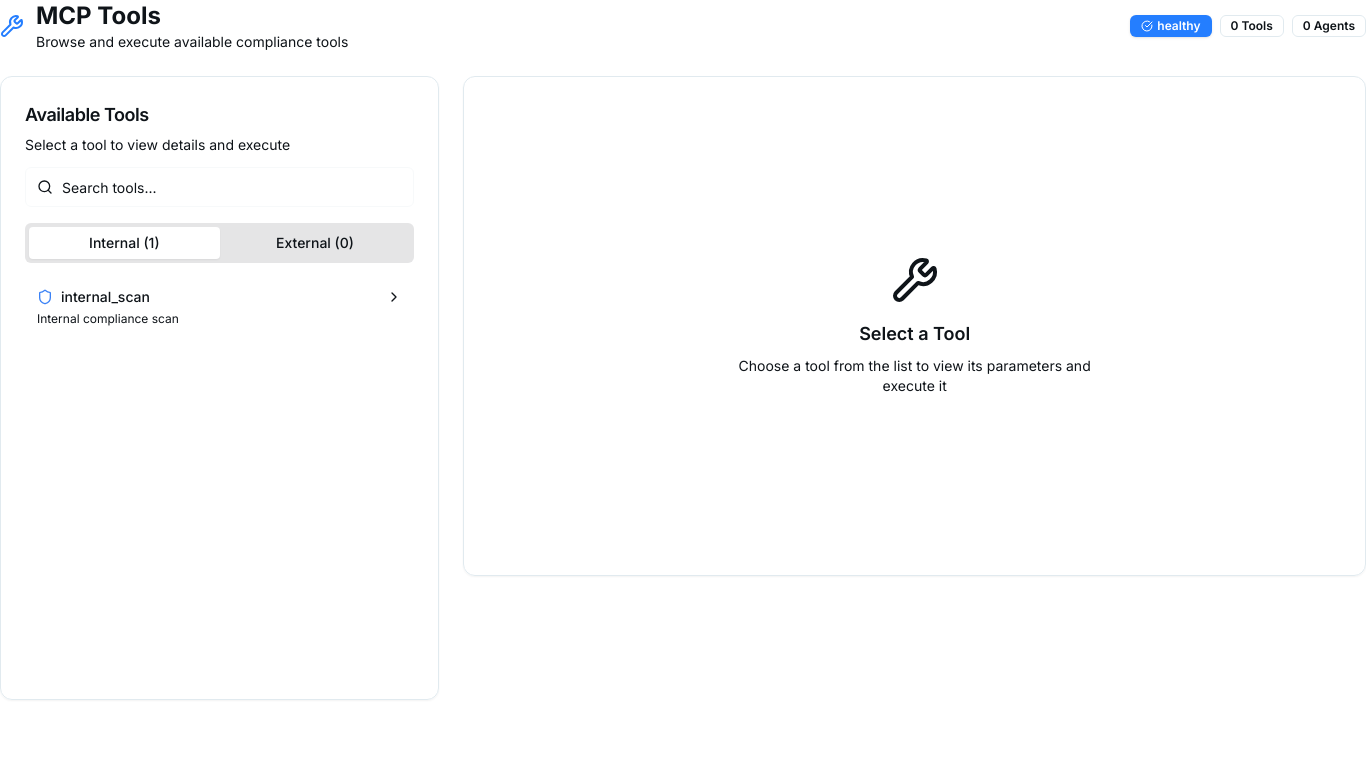
Scenario: MCPTools interactions › parses parameters and executes selected tool successfully
This screenshot has width=1366, height=760.
Click the element with test id "tool-item-internal_scan" at [106, 296], box [37,288,402,326]
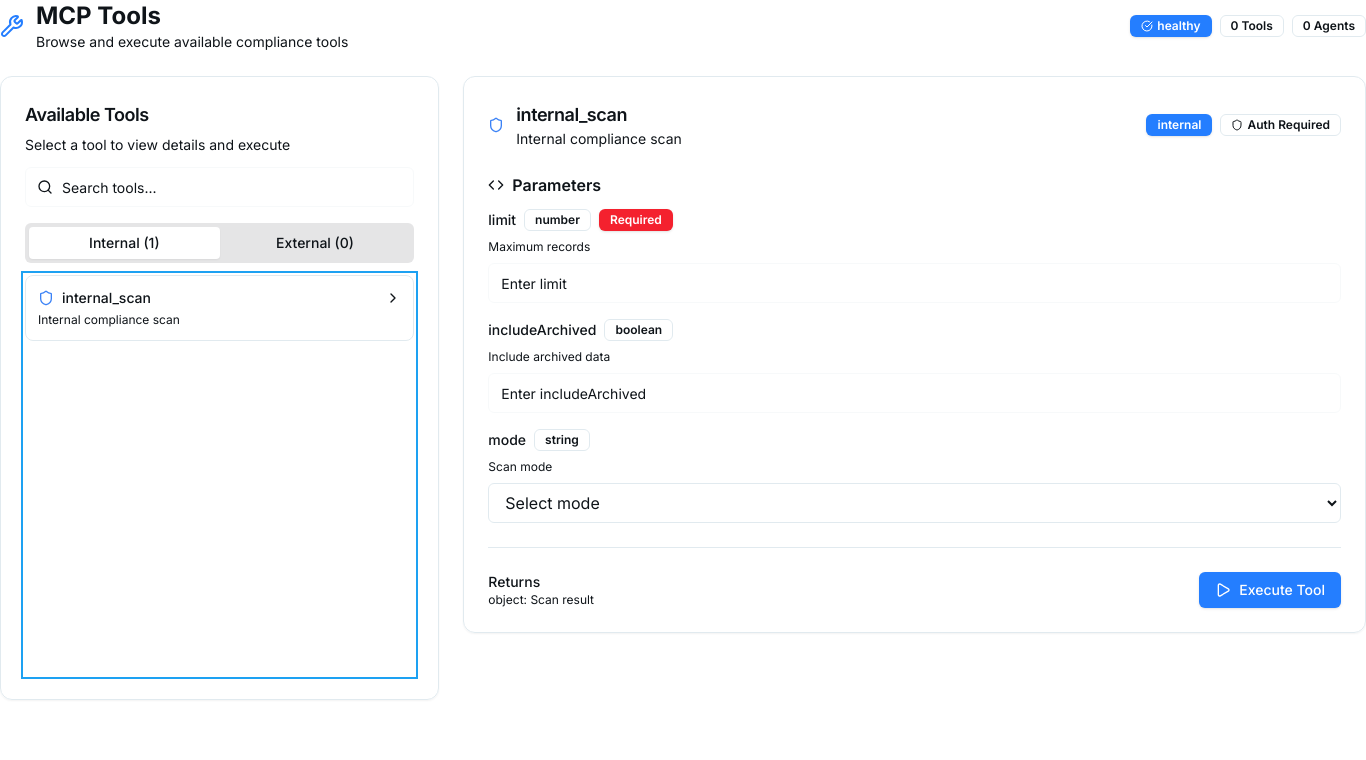
Type "5" into the number field with test id "input-param-limit" at [915, 283], box [488,263,1341,303]
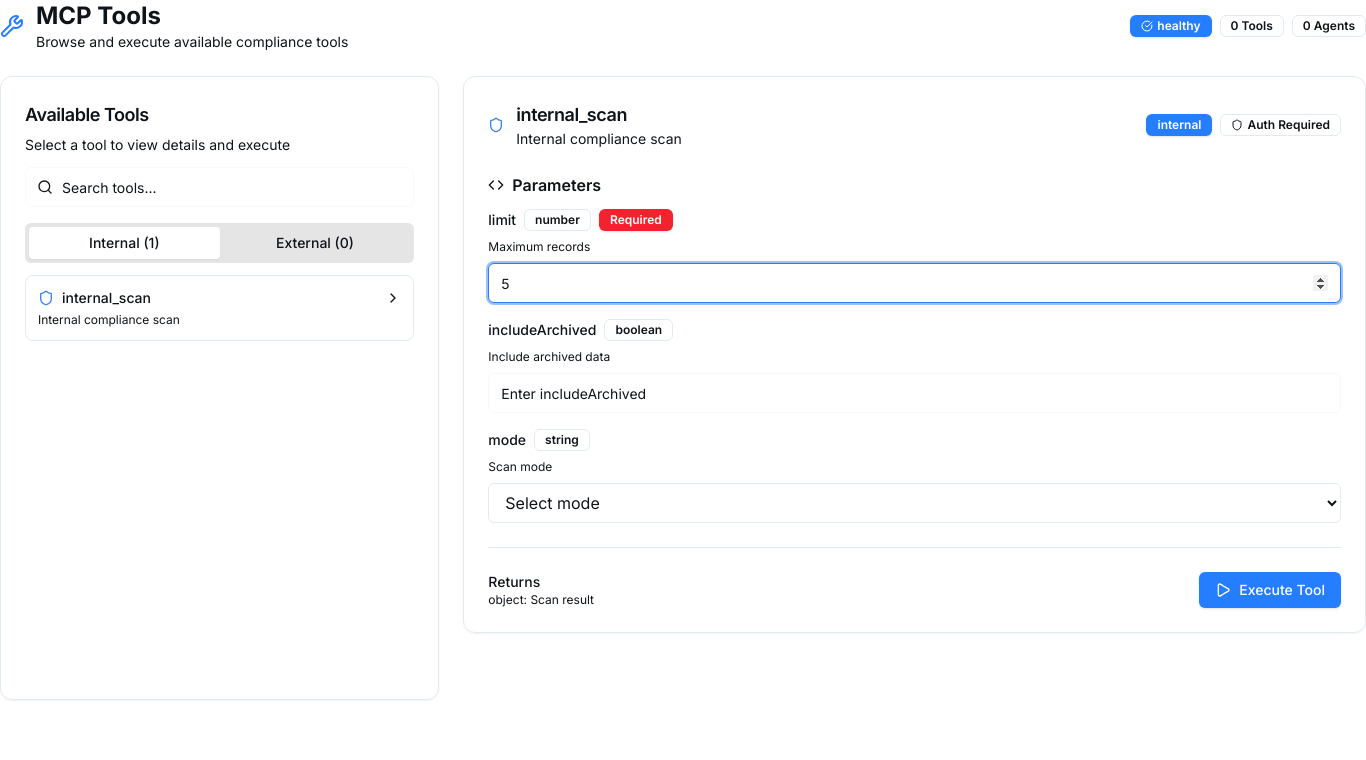
Type "true" into the field with test id "input-param-includeArchived" at [915, 393], box [488,373,1341,413]
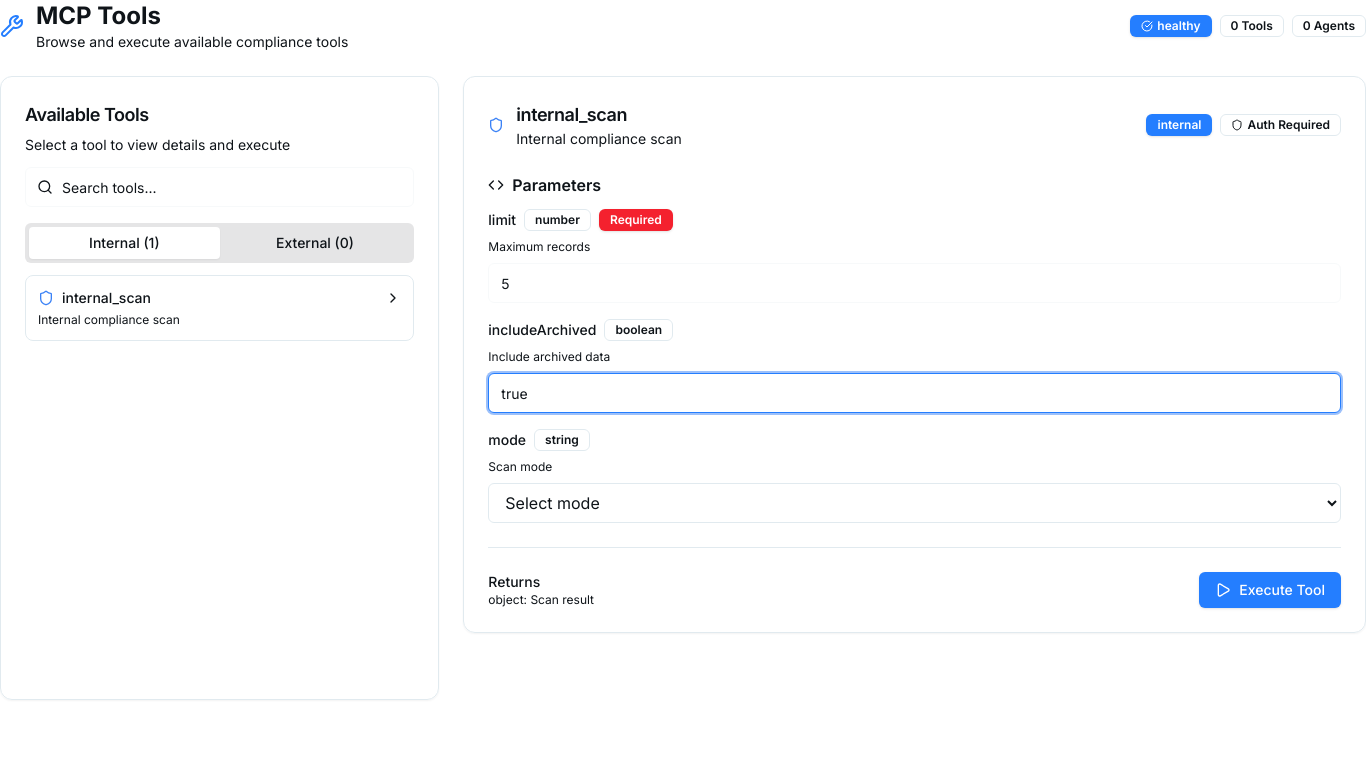
Select "deep" in the dropdown with test id "input-param-mode" at [915, 503], box [488,483,1341,523]
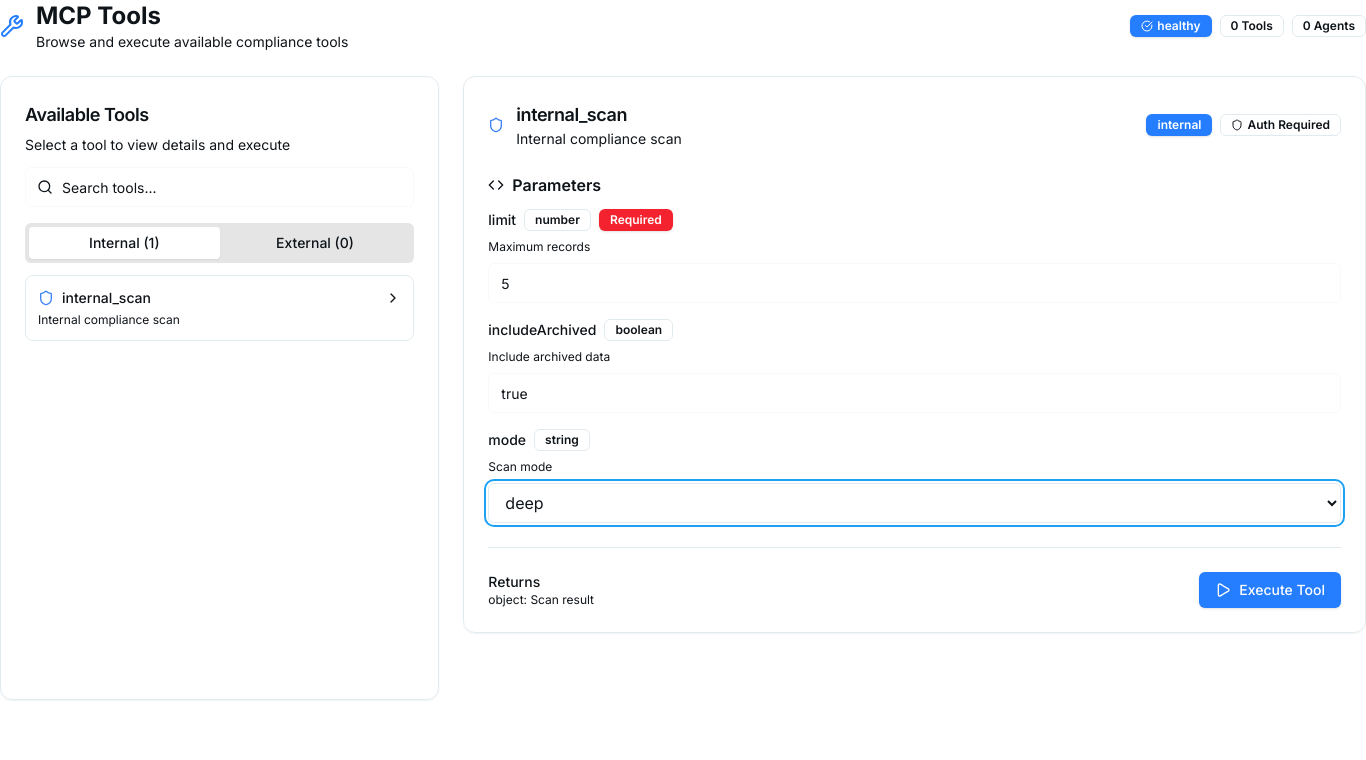
Click the button with test id "button-execute-tool" at [1270, 590], box [1199,572,1341,608]
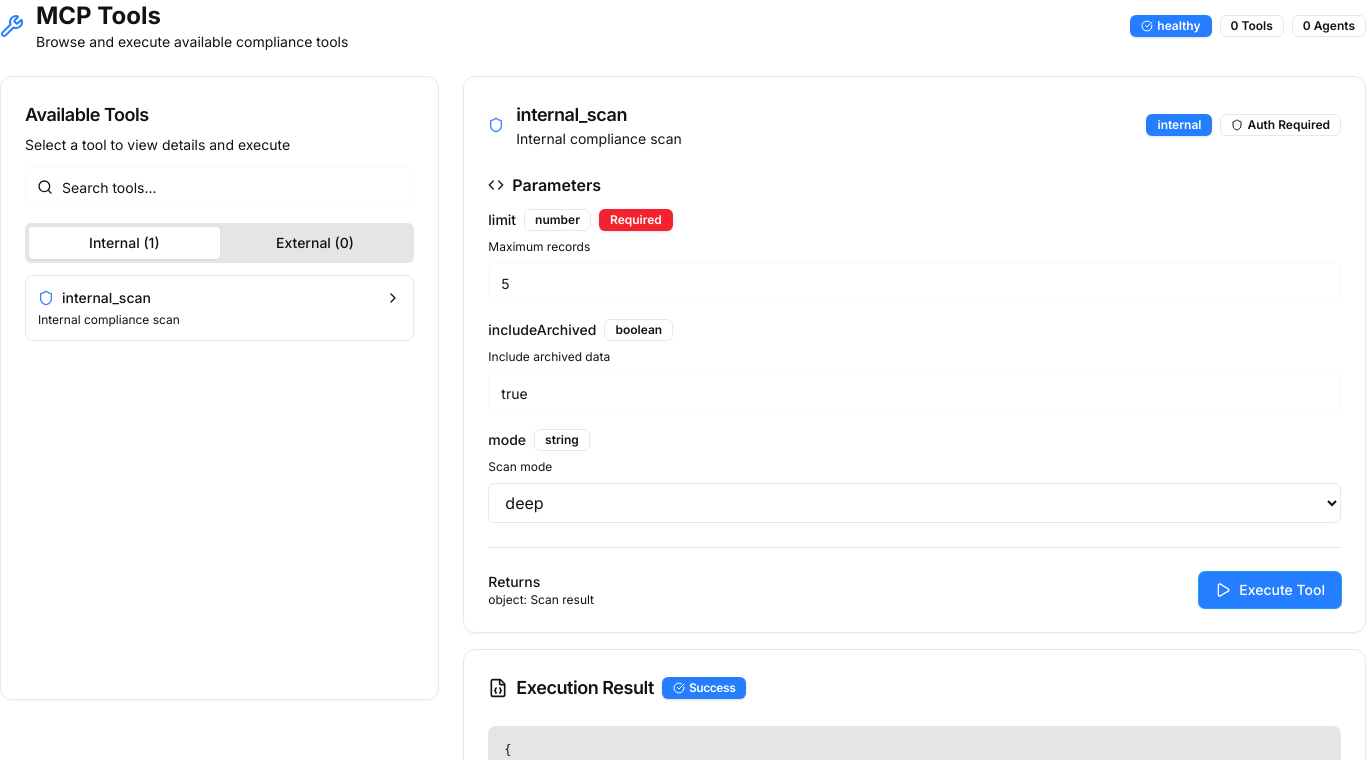
expect the text "Execution Result Success" is shown: met, box [488,677,746,699]
expect the text "Success" is shown: met, box [662,677,746,699]
